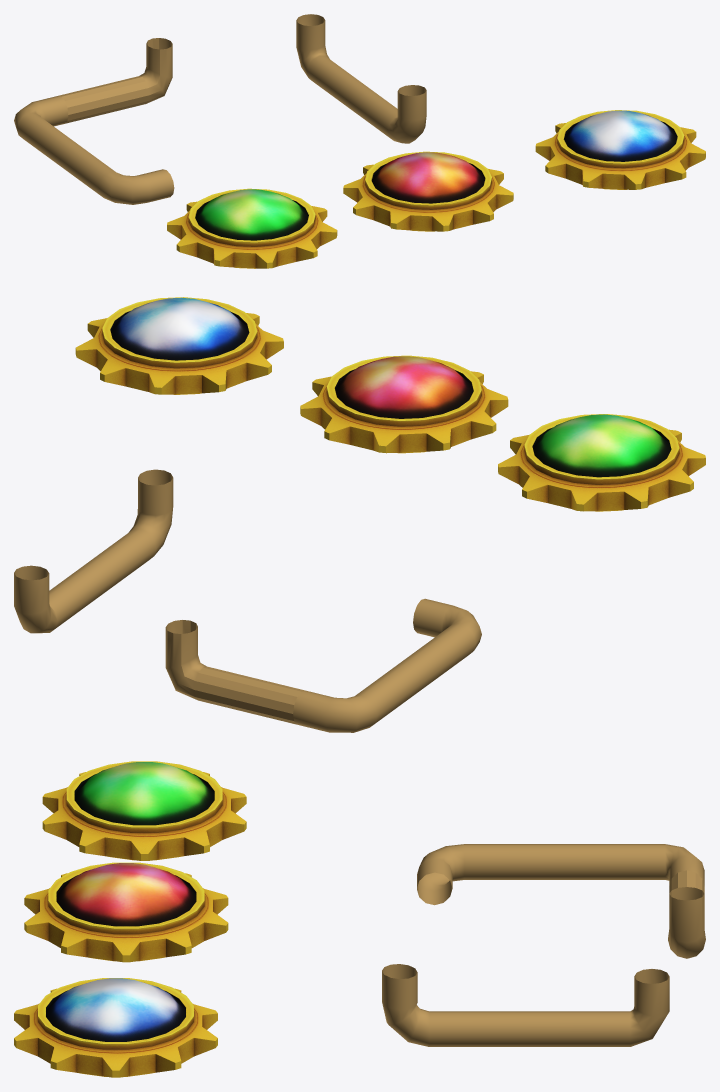
The model's file is New_gear_sample.fbx.
The picture shows the model from 3 angles, top to bottom: view 1: azimuth 30°, elevation 25°; view 2: azimuth 150°, elevation 25°; view 3: azimuth 270°, elevation 25°; orthographic projection. The views are drawn at different scales.
Parts seen in each view (by area): view 1: Gear_Green, Gear_Blue, Gear_red, pCylinder2, pCylinder1; view 2: Gear_red, Gear_Blue, Gear_Green, pCylinder2, pCylinder1; view 3: Gear_red, Gear_Green, Gear_Blue, pCylinder2, pCylinder1.
Boxes of the visible parts, bbox=[...] form: Gear_Green: bbox=[167, 188, 337, 268]; Gear_Blue: bbox=[535, 110, 705, 189]; Gear_red: bbox=[343, 151, 513, 231]; pCylinder2: bbox=[14, 38, 174, 204]; pCylinder1: bbox=[296, 14, 426, 143]; Gear_red: bbox=[300, 355, 508, 453]; Gear_Blue: bbox=[75, 297, 283, 394]; Gear_Green: bbox=[498, 414, 705, 511]; pCylinder2: bbox=[165, 598, 481, 732]; pCylinder1: bbox=[14, 469, 173, 633]; Gear_red: bbox=[24, 862, 228, 962]; Gear_Green: bbox=[42, 761, 246, 860]; Gear_Blue: bbox=[14, 978, 217, 1077]; pCylinder2: bbox=[417, 844, 705, 958]; pCylinder1: bbox=[382, 964, 669, 1046].
Size of the model in its own units: 676 by 119 by 646.
